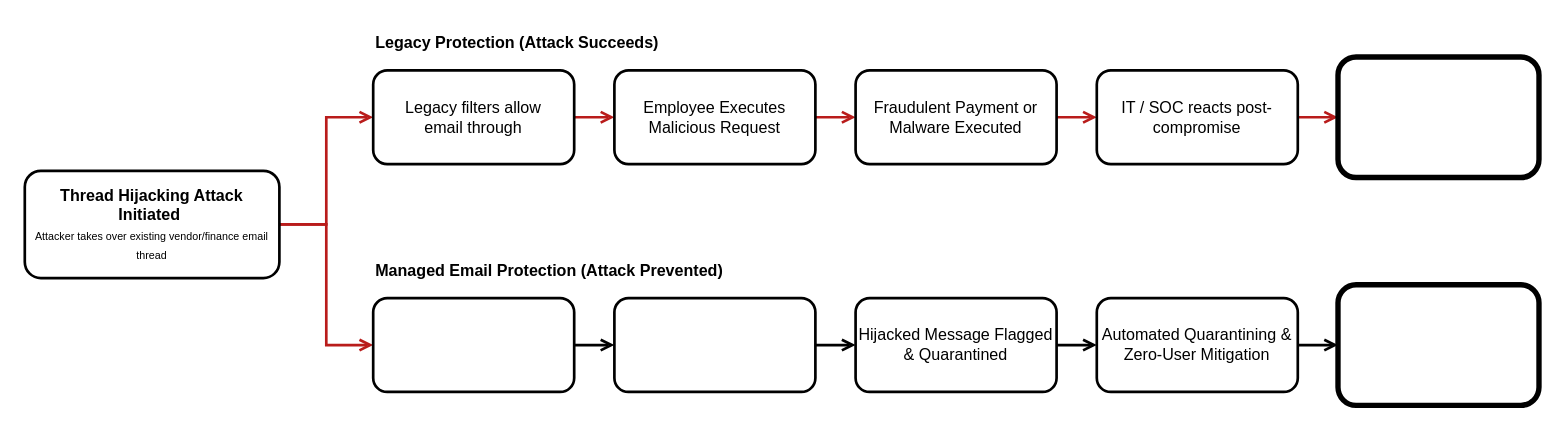
The diagram is 1564 pixels wide and 430 high, and some of its shapes have lost their labels. Here are the shapes that lost their labels. From the top down, the box of each, then its label:
(1335, 54, 1541, 180): Operational and Financial Impact Realized
(371, 296, 575, 393): Email Analysed by Managed Email Service
(612, 296, 816, 393): AI Flags Email & Malicious Payload
(1335, 281, 1541, 407): Zero Business Impact Achieved
